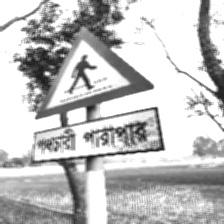Pedestrian-crossing: (31, 25, 163, 163)
